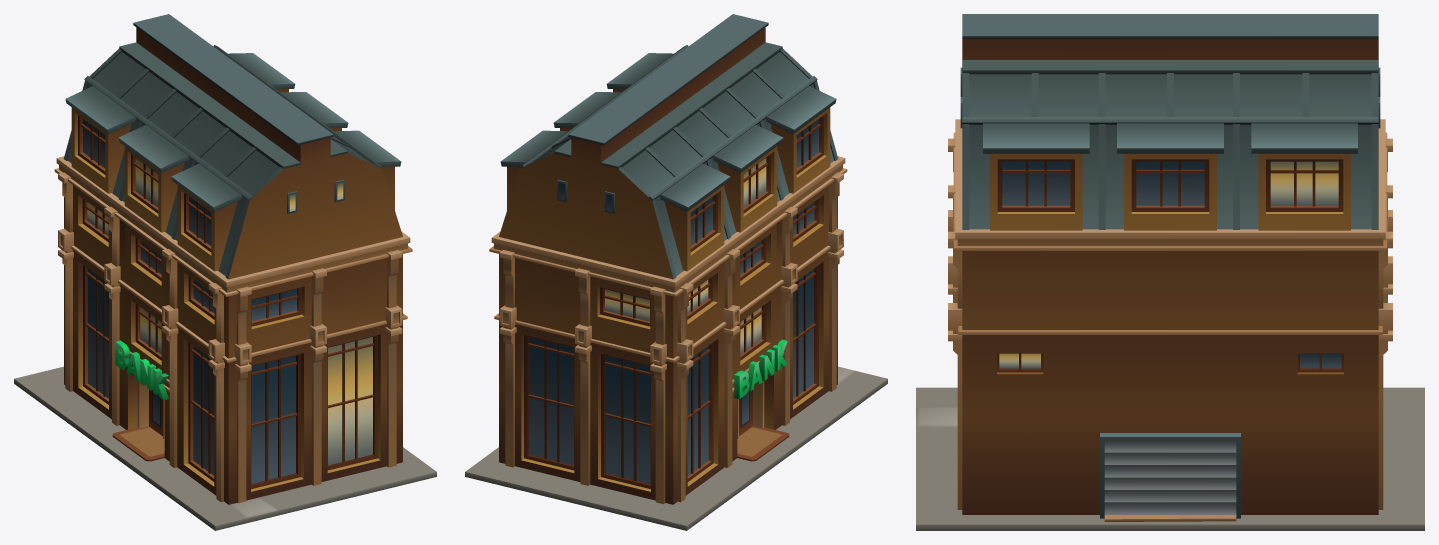
File: Building_10B.fbx
3 renders of one model, left to right at view 1: azimuth 30°, elevation 25°; view 2: azimuth 150°, elevation 25°; view 3: azimuth 270°, elevation 25°, orthographic. The views are drawn at different scales.
Parts seen in each view (by area): view 1: Building_10B, Window_Lights_10B, Logo_10B; view 2: Building_10B, Window_Lights_10B, Logo_10B; view 3: Building_10B, Window_Lights_10B.
Boxes of the visible parts, left/top/right/bottom form: Building_10B: left=14, top=14, right=436, bottom=530; Window_Lights_10B: left=87, top=158, right=372, bottom=465; Logo_10B: left=115, top=340, right=168, bottom=399; Building_10B: left=465, top=14, right=887, bottom=530; Window_Lights_10B: left=605, top=158, right=766, bottom=354; Logo_10B: left=734, top=339, right=787, bottom=399; Building_10B: left=916, top=14, right=1424, bottom=530; Window_Lights_10B: left=999, top=161, right=1338, bottom=368.
Bounding box in the file's own units: 1400 × 2110 × 2200.
